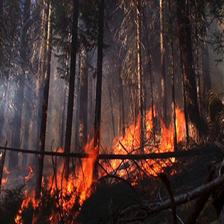fire: (20, 95, 197, 219)
